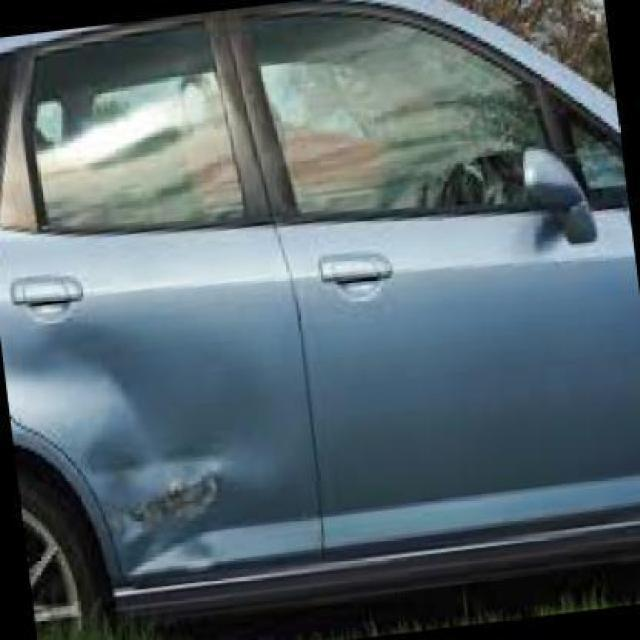dent: (15, 360, 242, 532)
